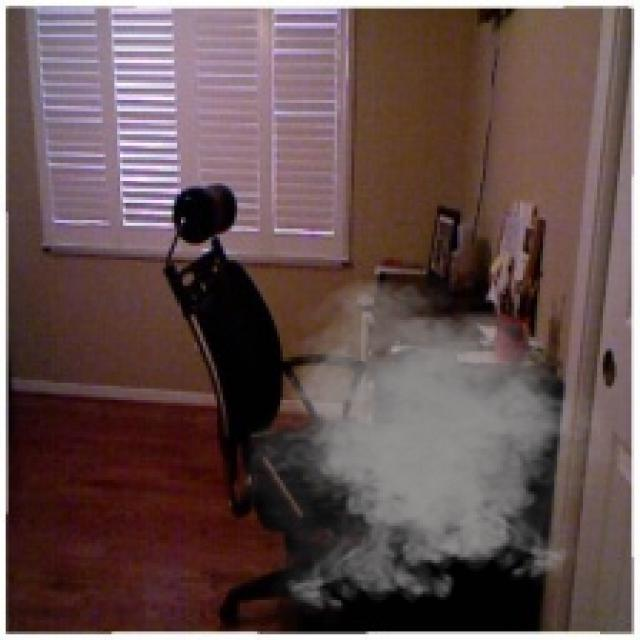Smoke: (228, 274, 626, 620)
